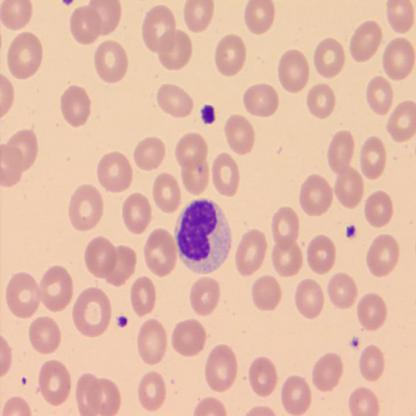Metamyelocyte: (172, 196, 233, 275)
